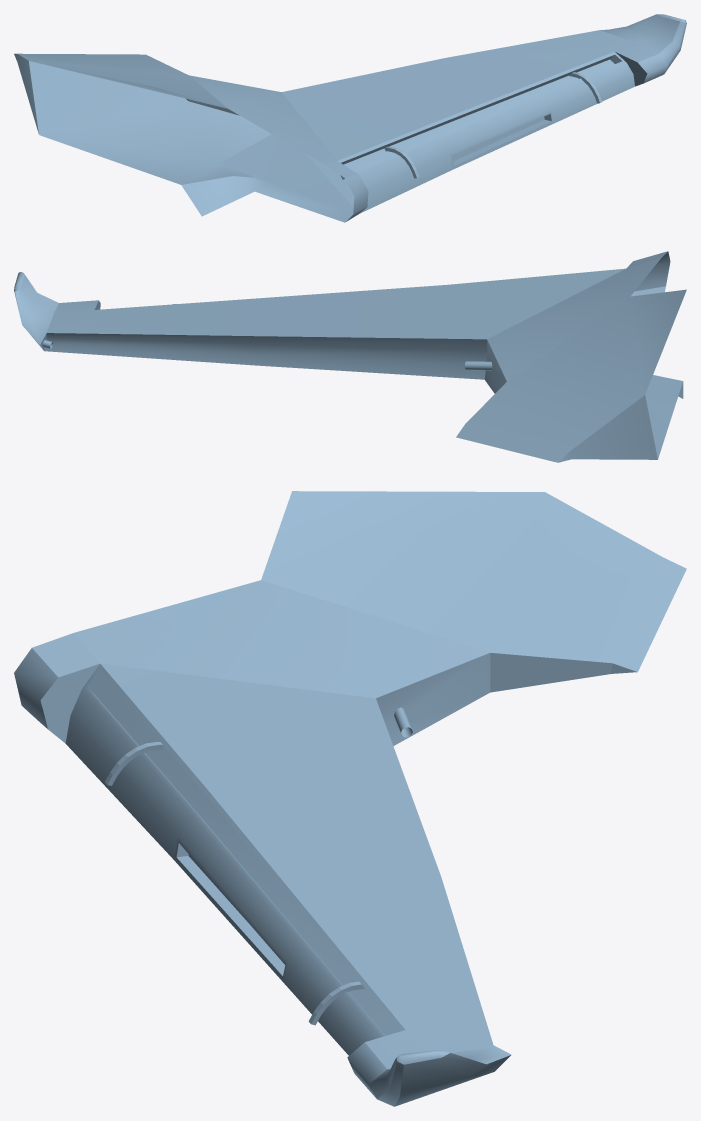
File: big wing body Dwn L.FBX
3 renders of one model, top to bottom at view 1: azimuth 30°, elevation 25°; view 2: azimuth 150°, elevation 25°; view 3: azimuth 270°, elevation 25°, orthographic. The views are drawn at different scales.
Visible parts, largest first — view 1: Box41; view 2: Box41; view 3: Box41.
Part boxes in pixels (box(x1,y1,x2,y2)): Box41: box(14, 14, 686, 222); Box41: box(14, 251, 686, 462); Box41: box(14, 491, 686, 1106).
Size of the model in its own units: 0.1813 by 0.1134 by 0.0408.
